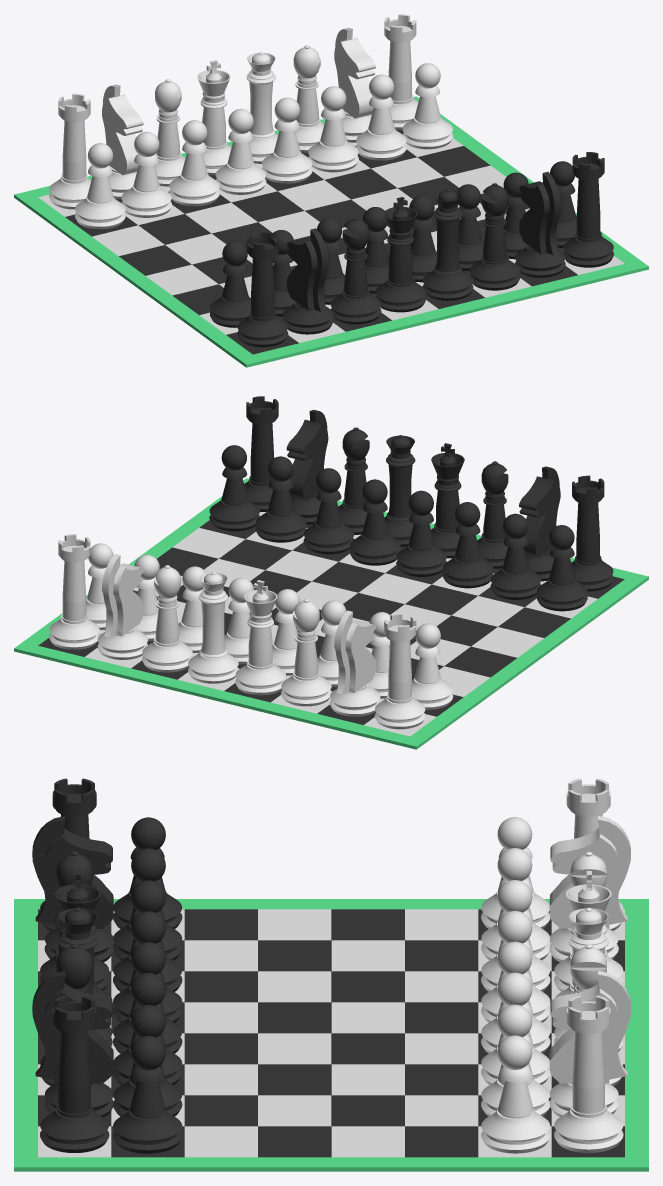
The model's file is chessboard.glb.
3 views of the same model, one above another, from view 1: azimuth 30°, elevation 25°; view 2: azimuth 150°, elevation 25°; view 3: azimuth 270°, elevation 25° (orthographic). The views are drawn at different scales.
Visible parts, largest first — view 1: Board, Horse Black 1, Horse Black 2, Tower Black 2, Tower Black 1, King Black, Queen Black, Tower White 2, Horse White 1, Bishop Black 1, Bishop Black 2, Horse White 2 (+21 smaller); view 2: Board, Horse White 2, Horse White 1, Tower White 1, Tower White 2, King White, Queen White, Tower Black 1, Horse Black 2, Bishop White 2, Bishop White 1, Horse Black 1 (+21 smaller); view 3: Board, Tower Black 2, Tower White 1, Horse White 2, Horse Black 1, Horse White 1, Horse Black 2, Pawn White 1, Pawn Black 8, Pawn Black 7, Pawn White 2, Pawn Black 2 (+21 smaller).
Part boxes in pixels (bbox=[...]): Board: bbox=[14, 96, 648, 367]; Horse Black 1: bbox=[282, 228, 333, 334]; Horse Black 2: bbox=[515, 171, 565, 277]; Tower Black 2: bbox=[563, 152, 613, 267]; Tower Black 1: bbox=[237, 231, 288, 347]; King Black: bbox=[375, 197, 425, 312]; Queen Black: bbox=[422, 189, 473, 300]; Tower White 2: bbox=[49, 93, 91, 209]; Horse White 1: bbox=[334, 27, 375, 142]; Bishop Black 1: bbox=[330, 217, 381, 324]; Bishop Black 2: bbox=[469, 183, 520, 290]; Horse White 2: bbox=[102, 84, 143, 199]; Board: bbox=[14, 478, 648, 749]; Horse White 2: bbox=[330, 610, 380, 716]; Horse White 1: bbox=[97, 554, 148, 659]; Tower White 1: bbox=[49, 534, 99, 649]; Tower White 2: bbox=[374, 613, 425, 729]; King White: bbox=[235, 580, 285, 695]; Queen White: bbox=[188, 572, 238, 683]; Tower Black 1: bbox=[571, 475, 613, 591]; Horse Black 2: bbox=[286, 409, 328, 524]; Bishop White 2: bbox=[281, 599, 331, 706]; Bishop White 1: bbox=[142, 565, 192, 672]; Horse Black 1: bbox=[519, 466, 560, 581]; Board: bbox=[14, 899, 648, 1171]; Tower Black 2: bbox=[40, 995, 109, 1152]; Tower White 1: bbox=[554, 995, 623, 1152]; Horse White 2: bbox=[549, 816, 630, 962]; Horse Black 1: bbox=[32, 816, 113, 962]; Horse White 1: bbox=[549, 970, 630, 1116]; Horse Black 2: bbox=[32, 971, 113, 1117]; Pawn White 1: bbox=[481, 1035, 550, 1153]; Pawn Black 8: bbox=[113, 1035, 182, 1153]; Pawn Black 7: bbox=[113, 1005, 182, 1116]; Pawn White 2: bbox=[481, 1004, 549, 1116]; Pawn Black 2: bbox=[113, 848, 182, 960].
Bounding box in the file's own units: 27.6 × 7.13 × 27.6.
